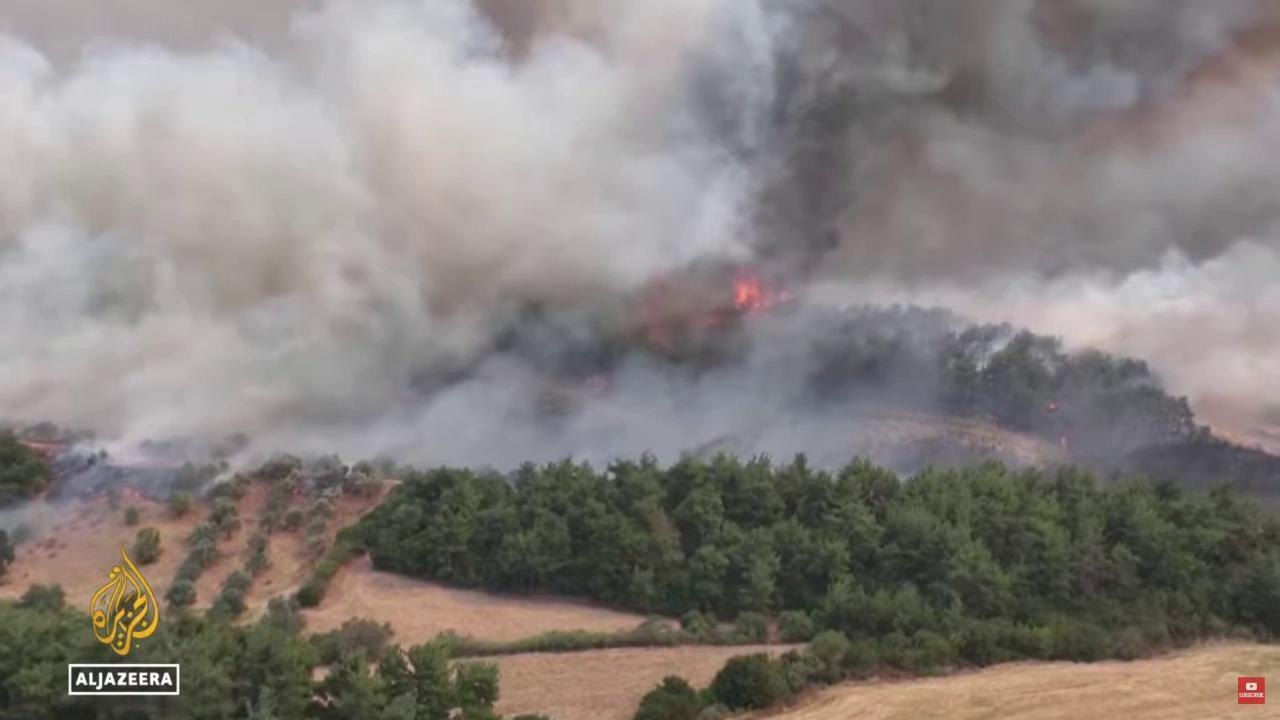fire: (732, 280, 762, 310), (1059, 436, 1067, 452), (1049, 403, 1056, 410)
smoke: (0, 0, 1280, 549)
